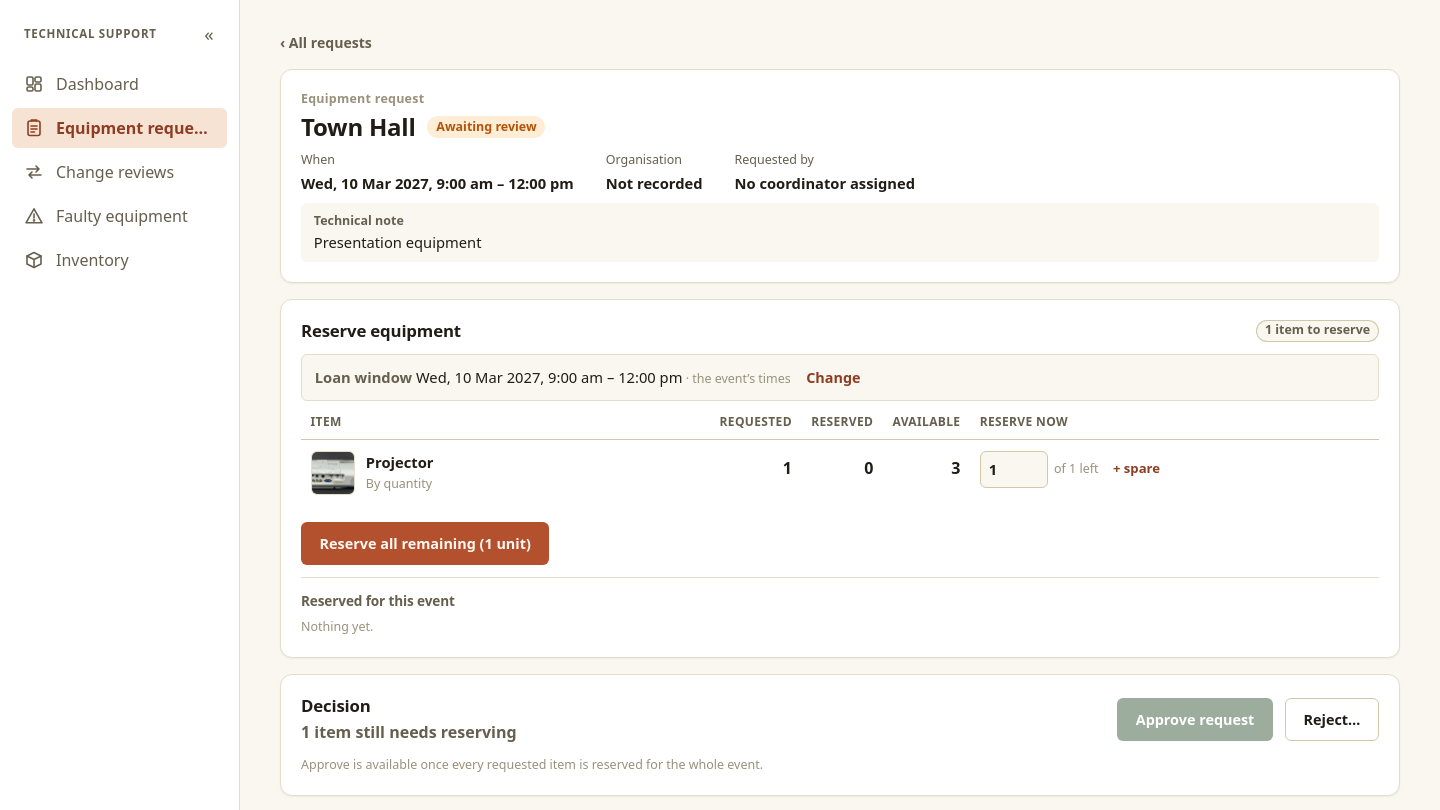
Test: Technical Support UI integration › TS02 (happy): one button reserves every remaining unit, and the saved reservation is listed for the event
Expected: the heading "Town Hall" is shown, [301,113,416,142]
Expected: the row "Projector By quantity 1 0 3 of 1 left + spare" is shown, [301,439,1379,506]
Click the button "Reserve all remaining (1 unit)". click: (425, 543)
box: [301,522,549,565]
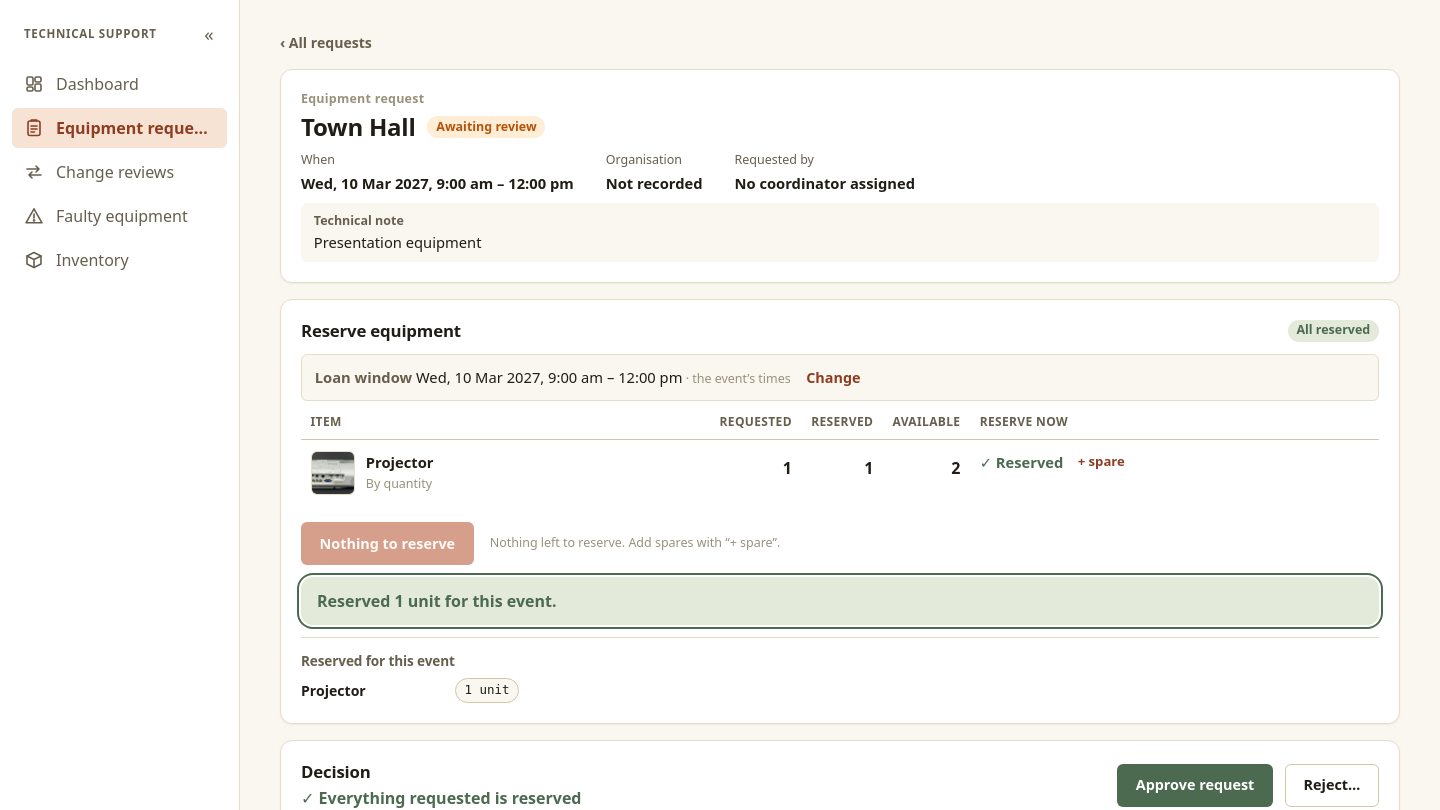
Result: the text "✓ Reserved" is shown at [980,451,1063,473]
Result: the text "1 unit" is shown at [455,678,519,703]
